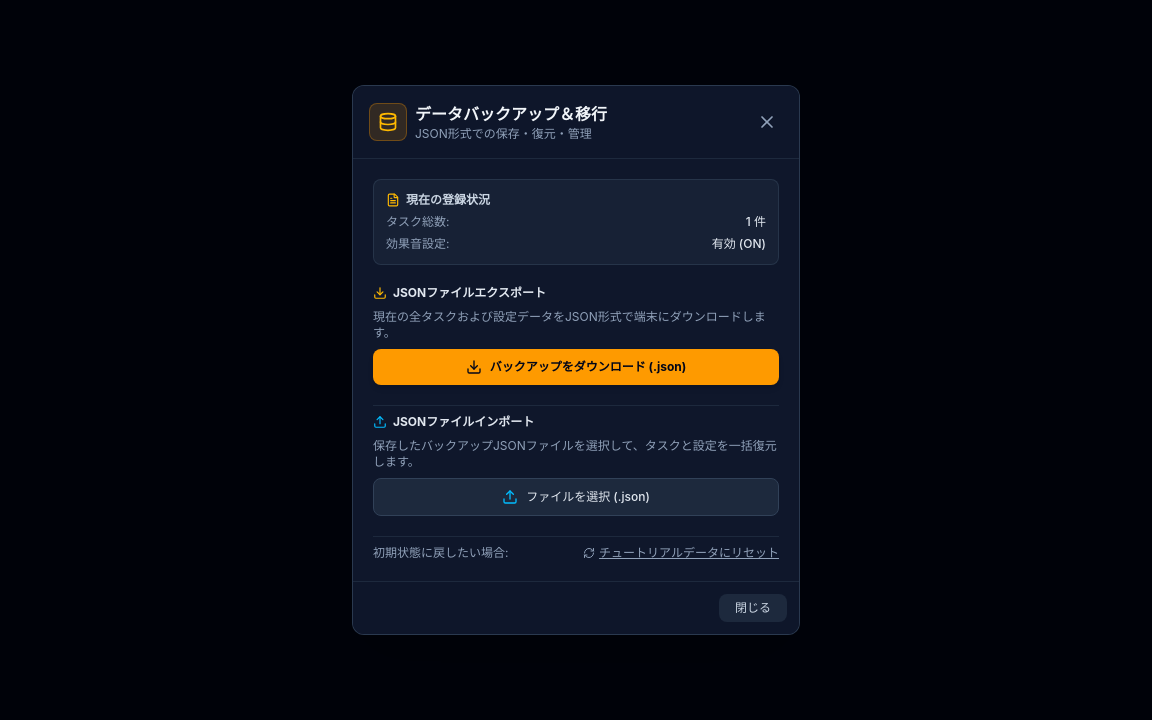
Test: BackupModal Component › resets to initial tutorial seed tasks when reset button is confirmed
Click the button with test id "reset-initial-button": [681, 553] box [583,545,779,561]
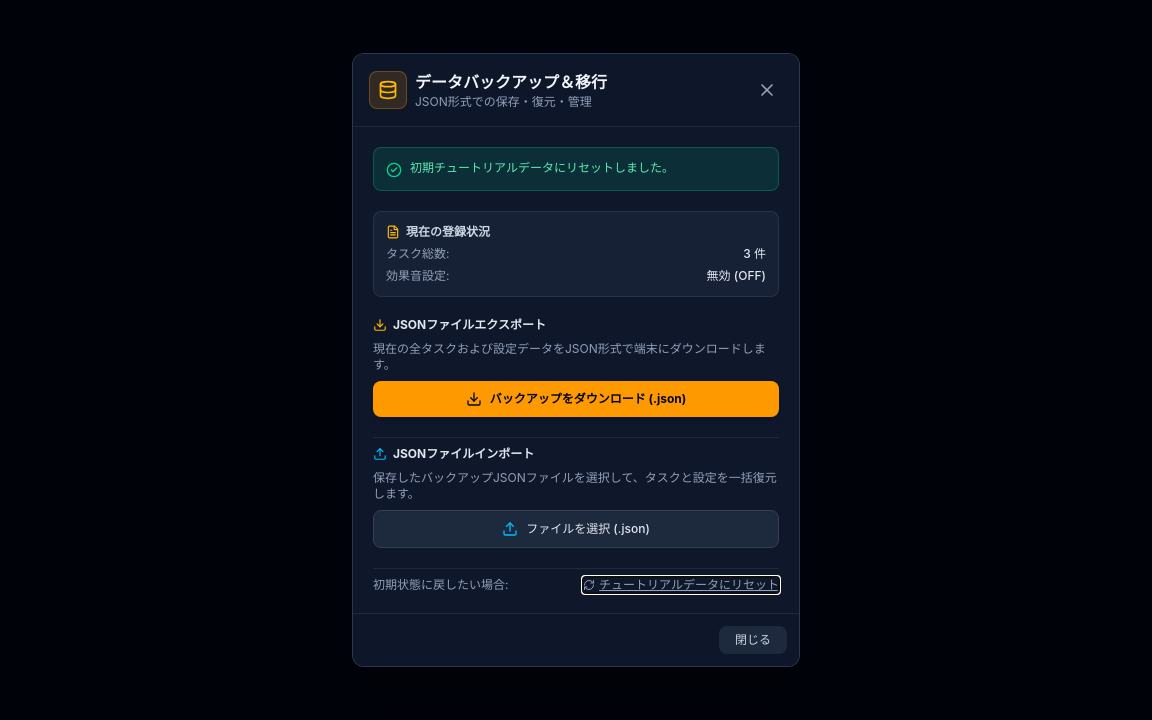
Check: the message "初期チュートリアルデータにリセットしました。" is shown, box [373,147,779,191]
Check: the text "初期チュートリアルデータにリセットしました。" is shown, box [410,160,674,176]
